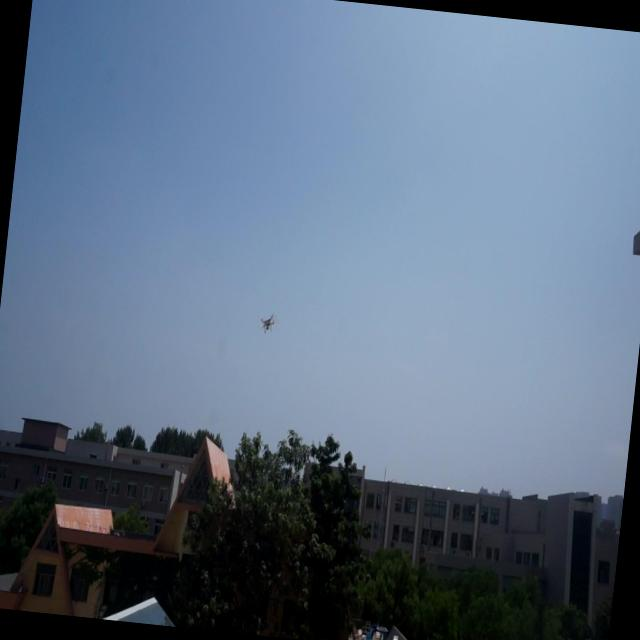drone: (256, 306, 276, 336)
